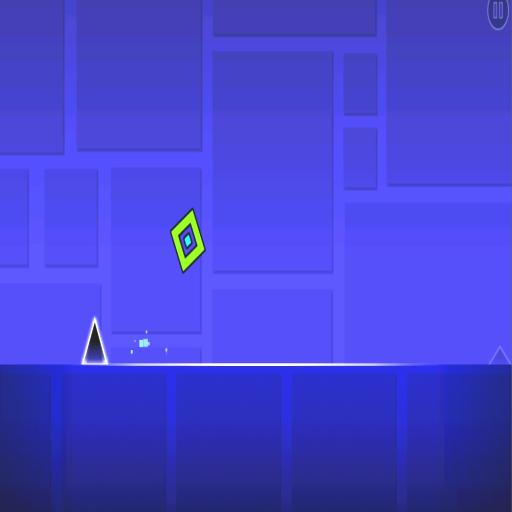player: (170, 208, 205, 272)
spike: (82, 317, 108, 364), (489, 346, 511, 365)
